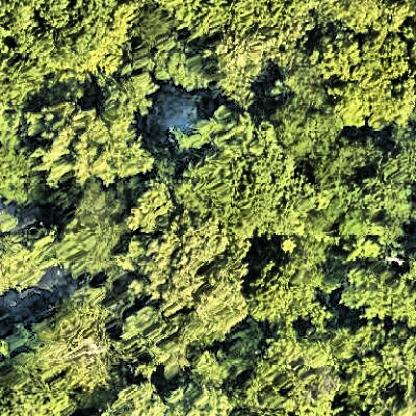tree-top: (173, 121, 320, 236), (21, 91, 162, 193), (129, 199, 247, 309), (311, 141, 416, 239), (1, 1, 148, 67), (312, 36, 408, 135), (251, 240, 340, 334), (42, 293, 121, 391), (246, 339, 342, 416), (126, 305, 213, 380), (345, 327, 416, 416), (272, 73, 345, 154), (336, 259, 416, 324), (212, 32, 284, 103), (1, 217, 60, 293), (64, 190, 118, 273), (168, 1, 299, 33), (1, 356, 66, 416), (149, 33, 205, 96), (1, 141, 49, 204), (329, 1, 406, 39), (171, 380, 239, 416), (108, 383, 173, 416), (195, 350, 242, 395)
